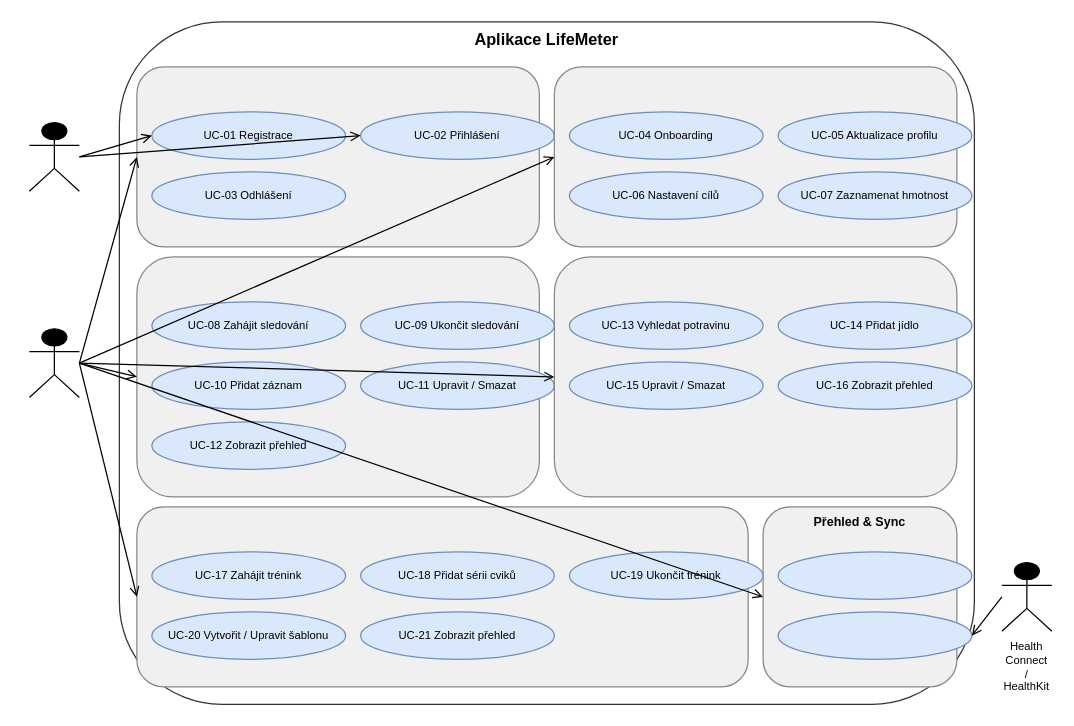
Some shapes in this 1074 by 726 pixel diagram are drawn without their labels. The shapes that lost their labels are listed below. From the top down, each one's box as (x1, y1, x2, y2) in pixels, then its label:
(28, 121, 79, 191): Nepřihlášený uživatel
(136, 66, 539, 247): Autentizace
(553, 66, 957, 247): Profil & Metriky
(28, 328, 79, 398): Přihlášený uživatel
(136, 256, 539, 497): Spánek
(553, 256, 957, 497): Výživa
(777, 551, 972, 599): UC-22 Domovský přehled
(136, 506, 748, 687): Tréninky
(777, 611, 972, 659): UC-23 Synchronizovat zdravotní data
